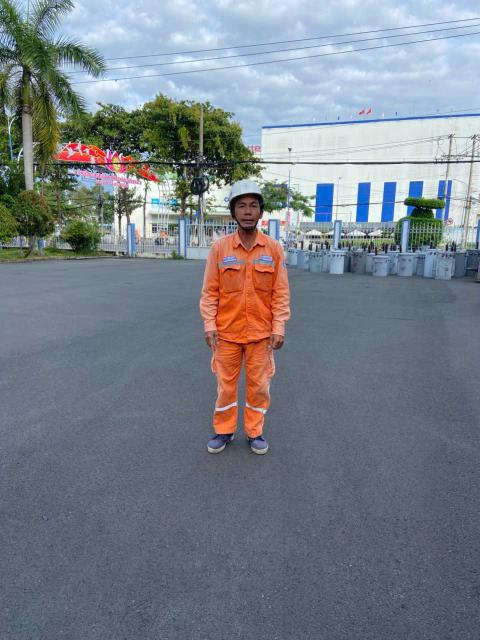helmet: (224, 177, 268, 203)
shoes: (200, 421, 240, 455), (241, 431, 277, 455)
